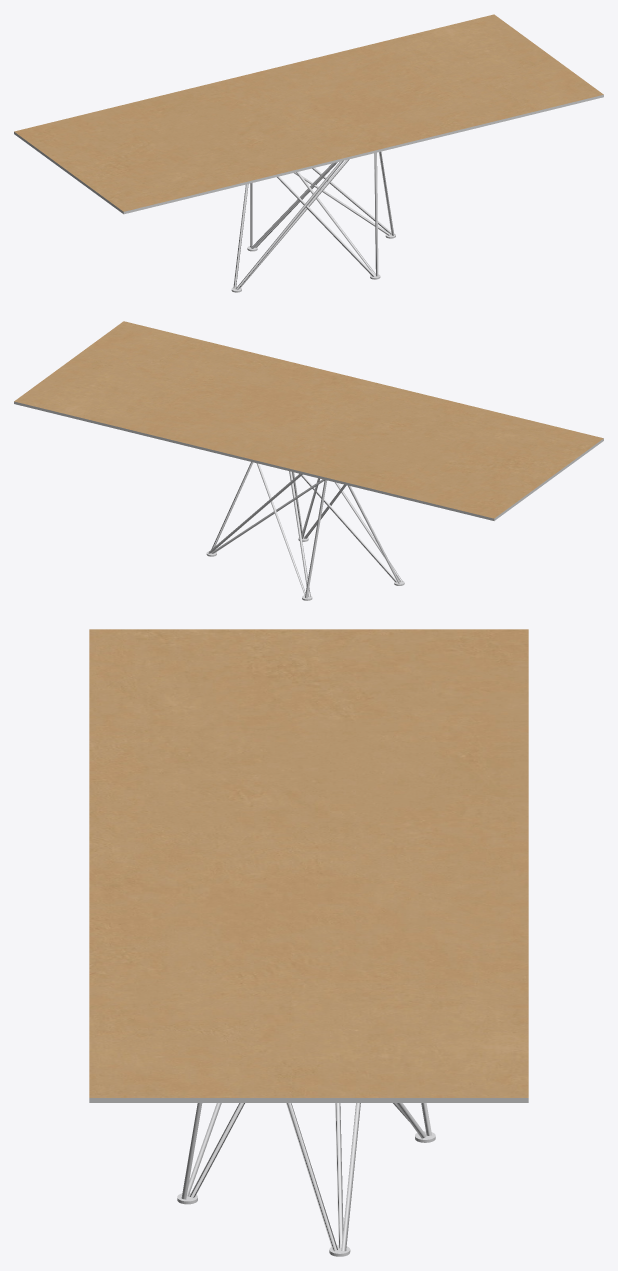
The model's file is Stella16.glb.
3 renders of one model, top to bottom at view 1: azimuth 30°, elevation 25°; view 2: azimuth 150°, elevation 25°; view 3: azimuth 270°, elevation 25°, orthographic. The views are drawn at different scales.
Parts seen in each view (by area): view 1: Cube.001, Plane.018; view 2: Cube.001, Plane.018; view 3: Cube.001, Plane.018.
Boxes of the visible parts, x1=… form: Cube.001: x1=14, y1=14, x2=603, y2=214; Plane.018: x1=233, y1=151, x2=394, y2=289; Cube.001: x1=14, y1=321, x2=603, y2=520; Plane.018: x1=208, y1=462, x2=402, y2=598; Cube.001: x1=89, y1=629, x2=528, y2=1102; Plane.018: x1=181, y1=1103, x2=431, y2=1251.
Size of the model in its own units: 2.4 by 0.7201 by 0.95.
Materials: 4 (3 with a texture image).
